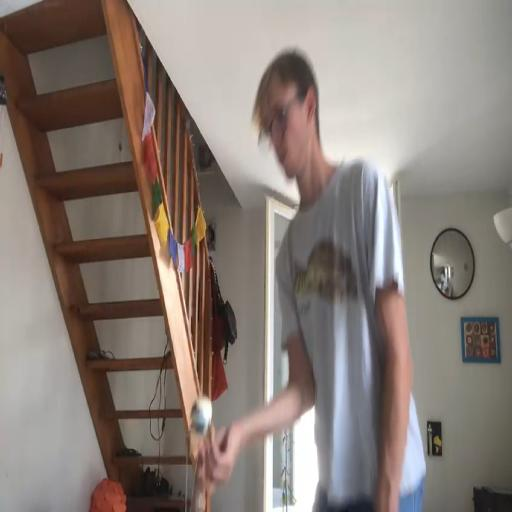kendama_ball: (190, 397, 212, 434)
